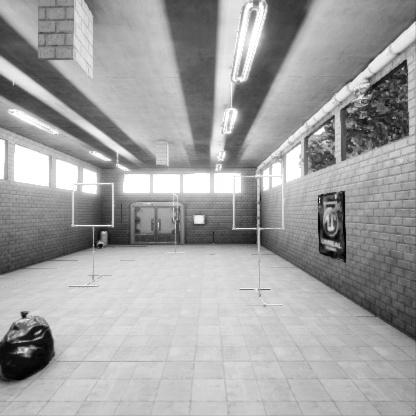gate: (234, 188, 289, 243), (76, 191, 119, 234), (173, 196, 177, 223)
